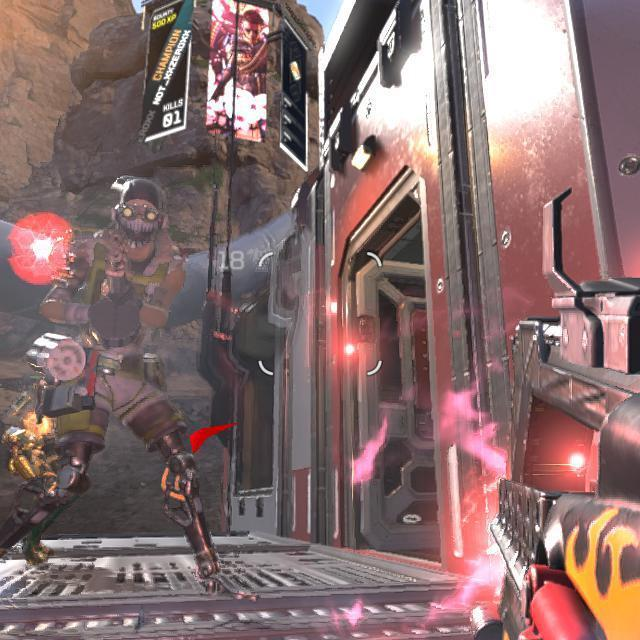avatar: (21, 174, 230, 593)
object: (7, 211, 72, 285)
